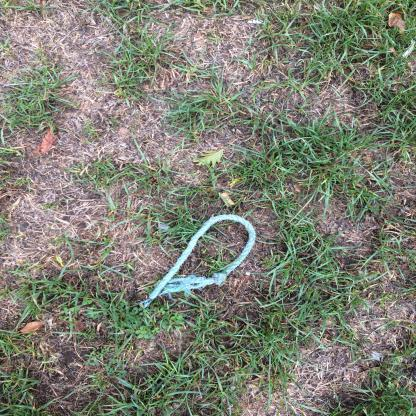diger: (150, 216, 257, 302)
